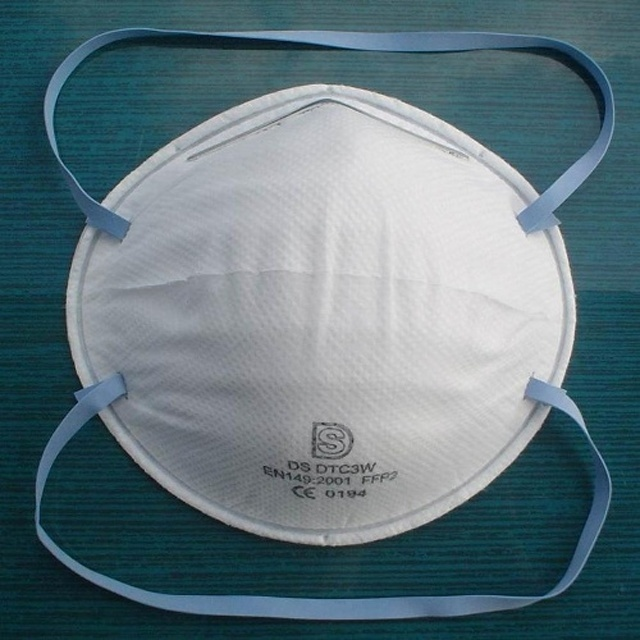mask: (28, 20, 621, 627)
